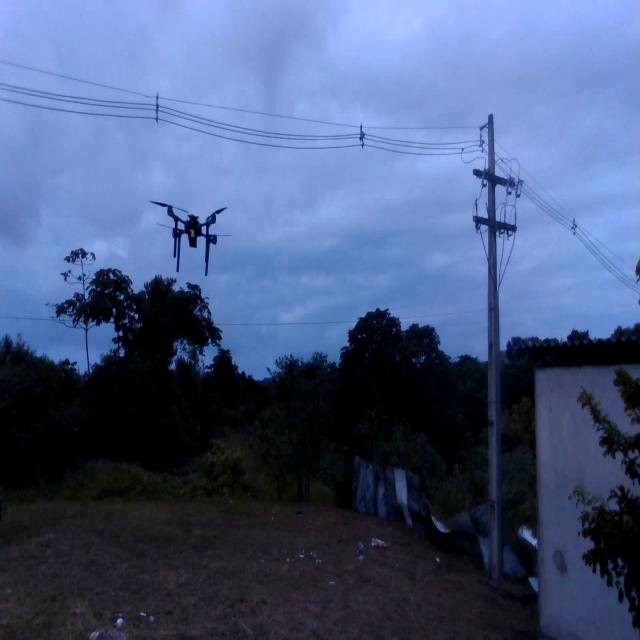-uav-: (145, 172, 246, 304)
